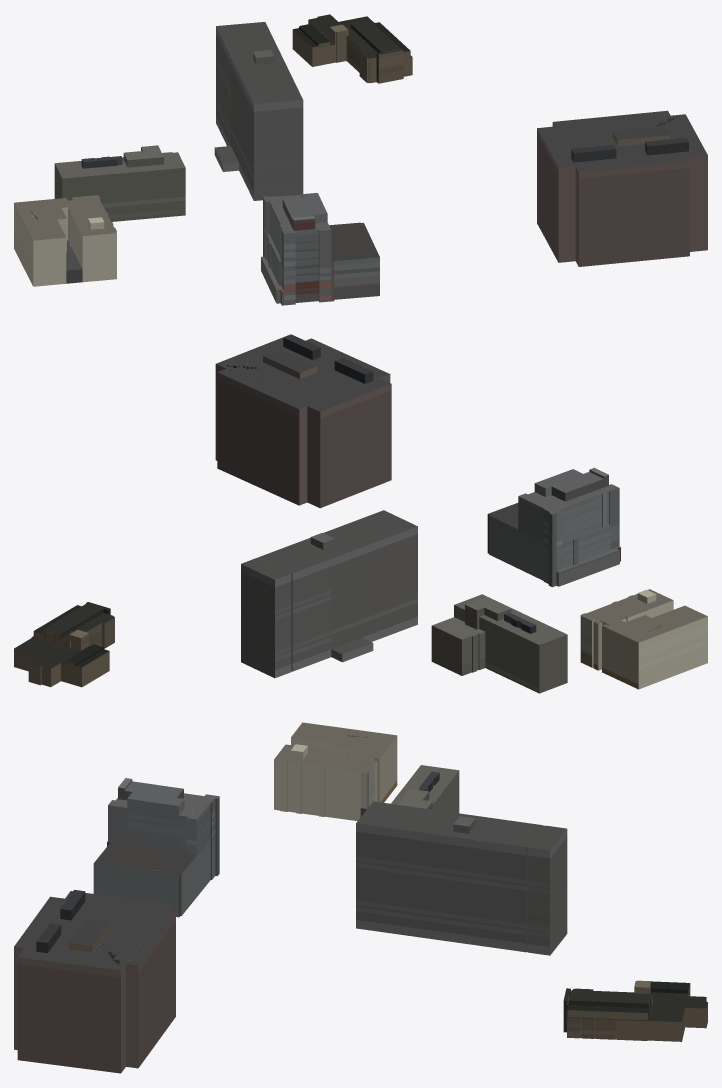
File: t_-1_2.far.glb
The picture shows the model from 3 angles, top to bottom: view 1: azimuth 30°, elevation 25°; view 2: azimuth 150°, elevation 25°; view 3: azimuth 270°, elevation 25°; orthographic projection. The views are drawn at different scales.
Parts seen in each view (by area): view 1: opaque; view 2: opaque; view 3: opaque.
Part boxes in pixels (bbox=[...]): opaque: bbox=[14, 14, 707, 305]; opaque: bbox=[14, 334, 707, 693]; opaque: bbox=[14, 722, 707, 1073].
Size of the model in its own units: 300 by 52.45 by 292.
Materials: 1 (1 with a texture image).
